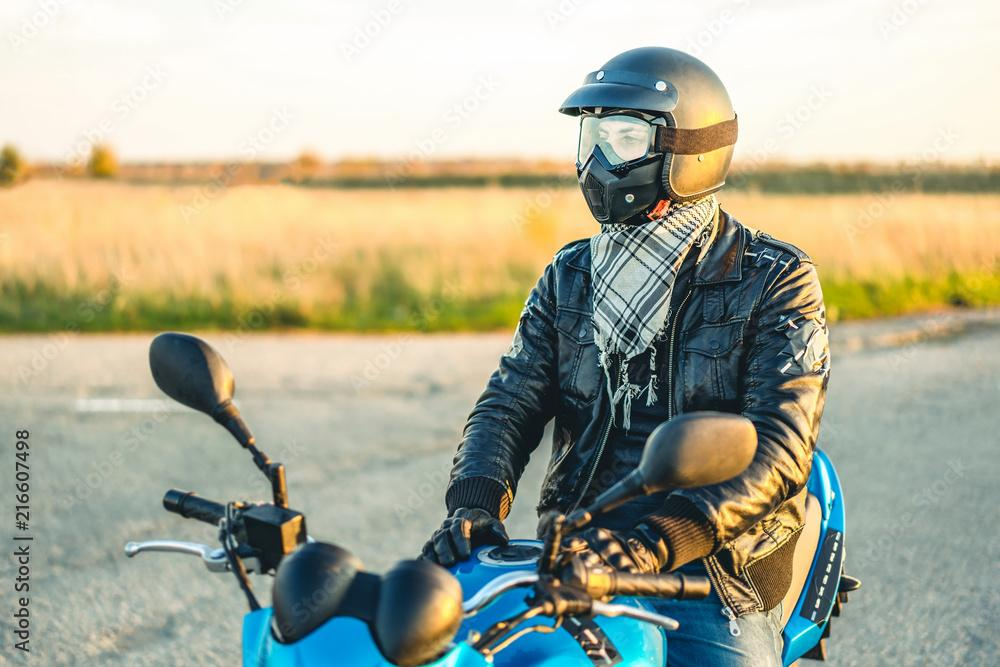helmet: (558, 45, 739, 225)
